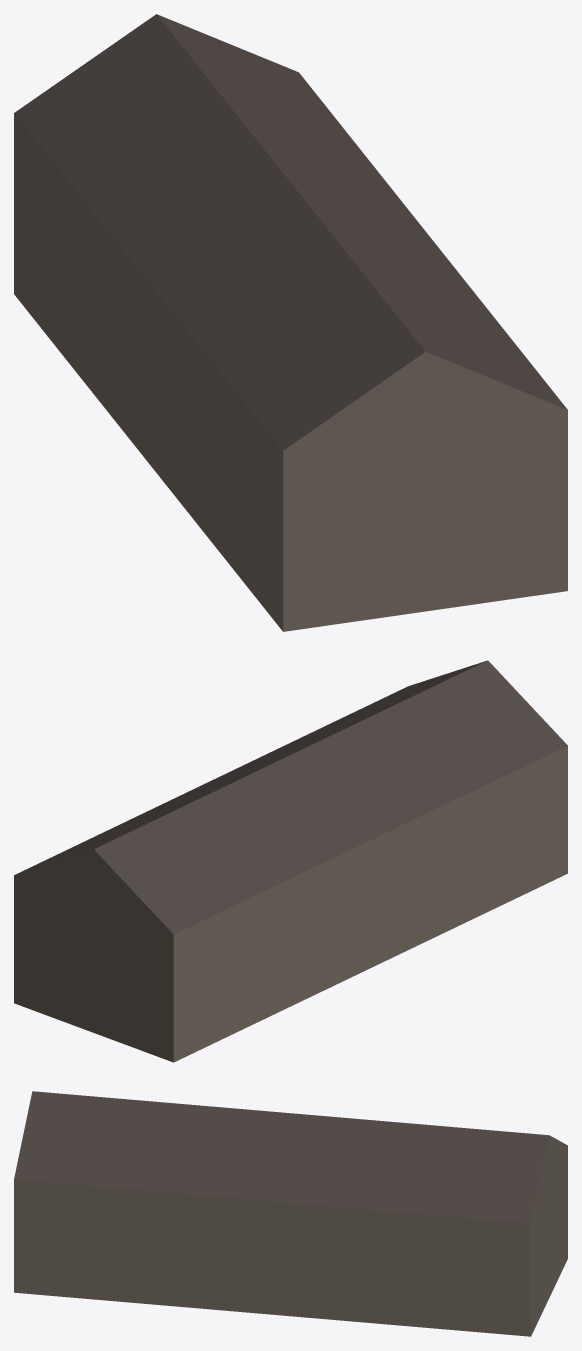
3 renders of one model, top to bottom at view 1: azimuth 30°, elevation 25°; view 2: azimuth 150°, elevation 25°; view 3: azimuth 270°, elevation 25°, orthographic. The views are drawn at different scales.
Parts seen in each view (by area): view 1: HP-w1318371764; view 2: HP-w1318371764; view 3: HP-w1318371764.
Part boxes in pixels (box(x1,y1,x2,y2)): HP-w1318371764: box(14, 14, 567, 631); HP-w1318371764: box(14, 660, 567, 1062); HP-w1318371764: box(14, 1091, 567, 1336).
Size of the model in its own units: 13.86 by 8.61 by 26.6.
